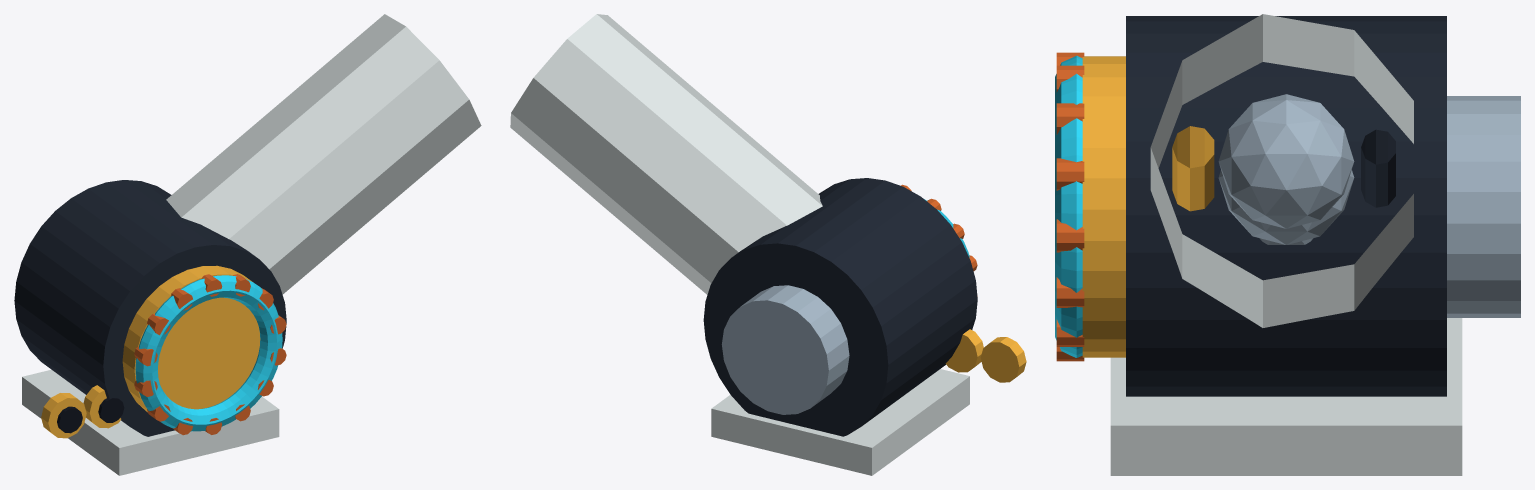
The model's file is 10_L86_RobotJoint3UpperArm.fbx.
The picture shows the model from 3 angles, left to right: view 1: azimuth 30°, elevation 25°; view 2: azimuth 150°, elevation 25°; view 3: azimuth 270°, elevation 25°; orthographic projection. The views are drawn at different scales.
Visible parts, largest first — view 1: L86_RobotJoint3UpperArm_Part_0005, L86_RobotJoint3UpperArm_Part_0000, L86_RobotJoint3UpperArm_Part_0001, L86_RobotJoint3UpperArm_Part_0002, L86_RobotJoint3UpperArm_Part_0004, L86_RobotJoint3UpperArm_Part_0006, L86_RobotJoint3UpperArm_Part_0008, L86_RobotJoint3UpperArm_Part_0007, L86_RobotJoint3UpperArm_Part_0009; view 2: L86_RobotJoint3UpperArm_Part_0005, L86_RobotJoint3UpperArm_Part_0000, L86_RobotJoint3UpperArm_Part_0003, L86_RobotJoint3UpperArm_Part_0006, L86_RobotJoint3UpperArm_Part_0008; view 3: L86_RobotJoint3UpperArm_Part_0000, L86_RobotJoint3UpperArm_Part_0005, L86_RobotJoint3UpperArm_Part_0003, L86_RobotJoint3UpperArm_Part_0001, L86_RobotJoint3UpperArm_Part_0002, L86_RobotJoint3UpperArm_Part_0004.
Part boxes in pixels (x1,y1,x2,y2): L86_RobotJoint3UpperArm_Part_0005: (22,14,481,475); L86_RobotJoint3UpperArm_Part_0000: (14,180,286,436); L86_RobotJoint3UpperArm_Part_0001: (122,265,260,412); L86_RobotJoint3UpperArm_Part_0002: (135,275,282,431); L86_RobotJoint3UpperArm_Part_0004: (134,274,286,435); L86_RobotJoint3UpperArm_Part_0006: (41,393,86,438); L86_RobotJoint3UpperArm_Part_0008: (83,385,121,428); L86_RobotJoint3UpperArm_Part_0007: (57,406,82,433); L86_RobotJoint3UpperArm_Part_0009: (98,398,124,422); L86_RobotJoint3UpperArm_Part_0005: (510,14,969,475); L86_RobotJoint3UpperArm_Part_0000: (703,178,977,436); L86_RobotJoint3UpperArm_Part_0003: (721,285,849,414); L86_RobotJoint3UpperArm_Part_0006: (980,337,1026,382); L86_RobotJoint3UpperArm_Part_0008: (945,329,983,372); L86_RobotJoint3UpperArm_Part_0000: (1126,16,1446,396); L86_RobotJoint3UpperArm_Part_0005: (1110,14,1462,475); L86_RobotJoint3UpperArm_Part_0003: (1218,94,1520,317); L86_RobotJoint3UpperArm_Part_0001: (1082,56,1214,357); L86_RobotJoint3UpperArm_Part_0002: (1055,55,1082,357); L86_RobotJoint3UpperArm_Part_0004: (1056,52,1084,361).
Size of the model in its own units: 154 by 109 by 75.5.
